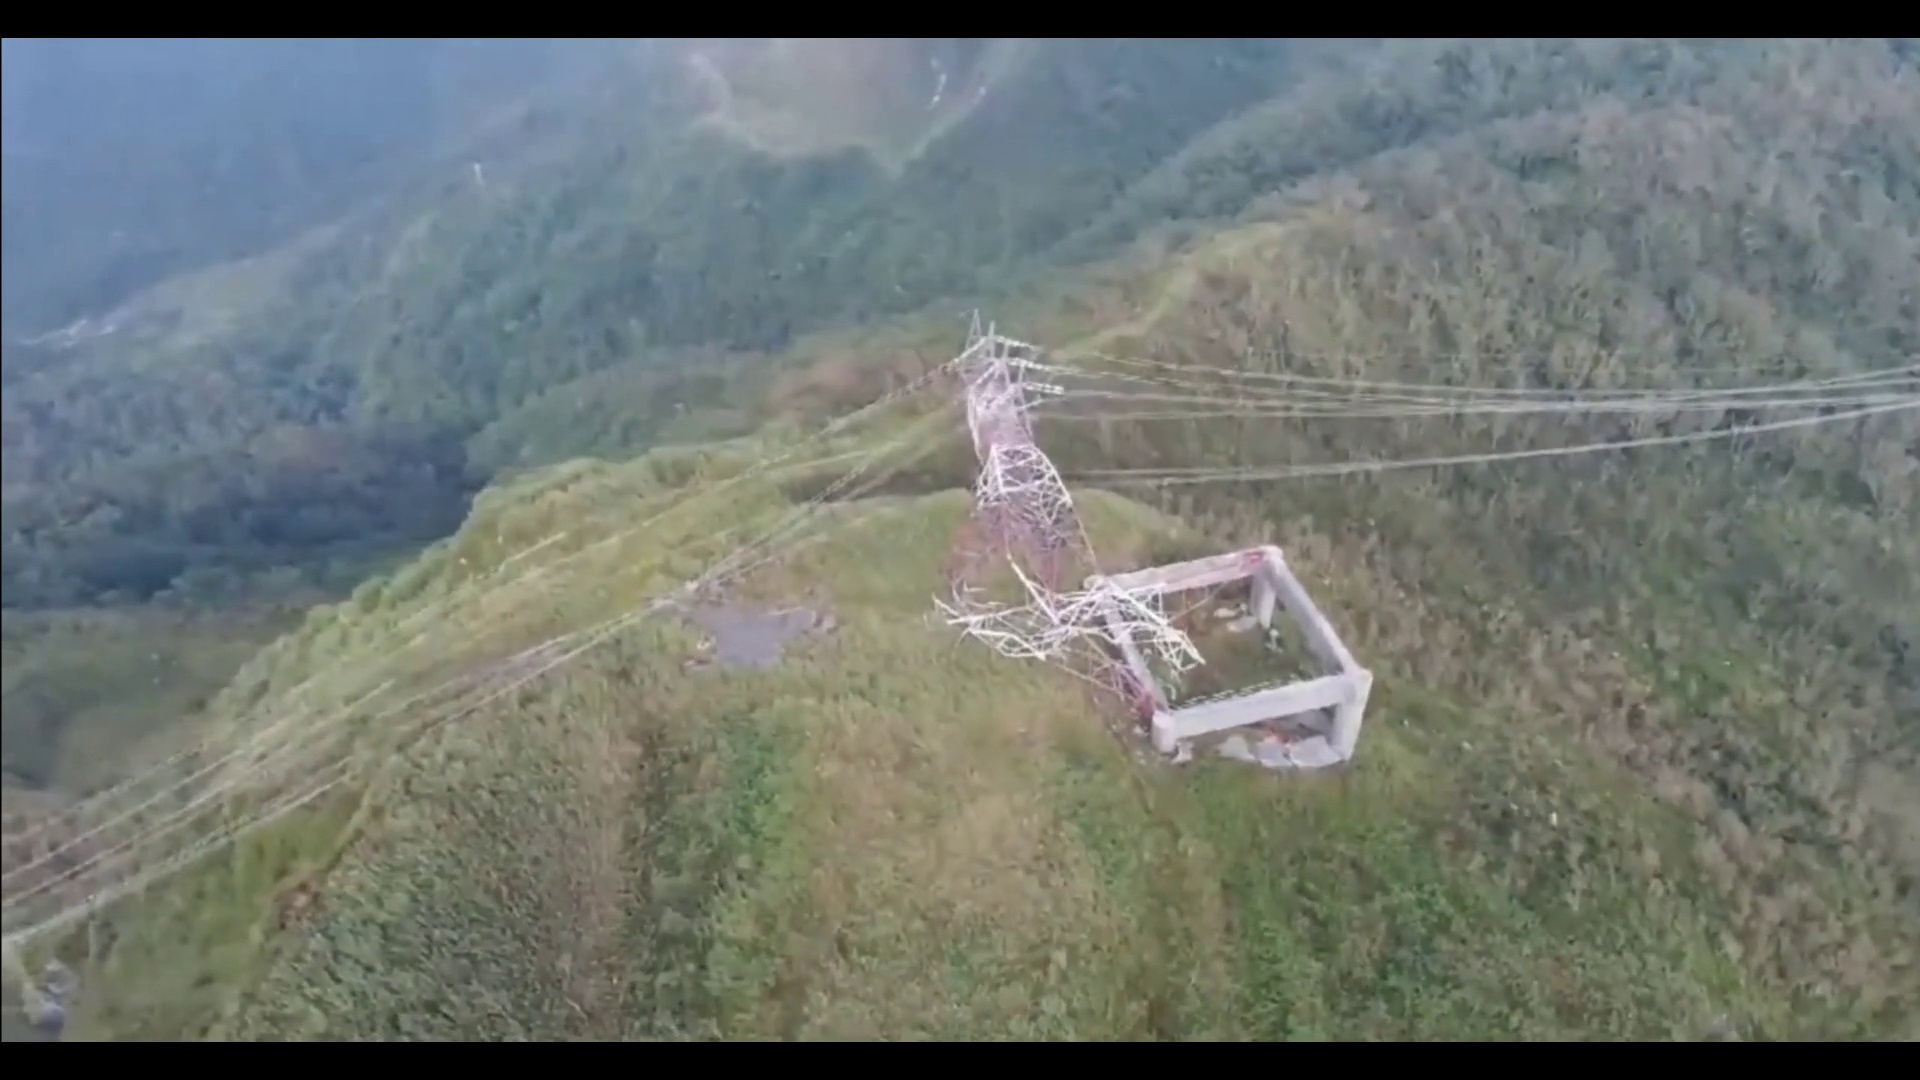tower_down: (931, 302, 1156, 694)
